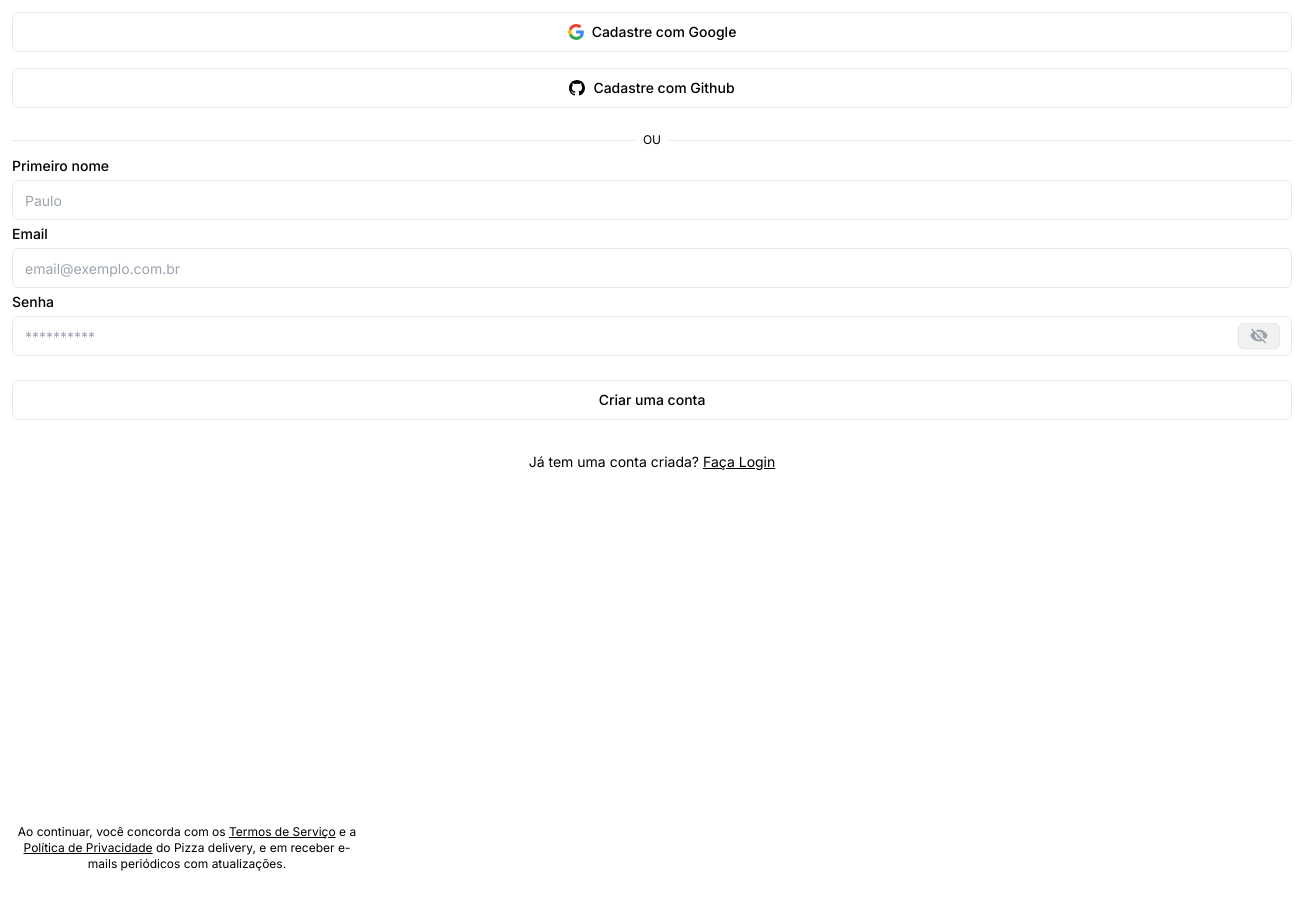
Scenario: <UserAuthFormRegister/> › should display error messages when fields are empty or wrongs
The image size is (1304, 912).
Click the button "Criar uma conta" at (652, 400), box [12,380,1292,420]
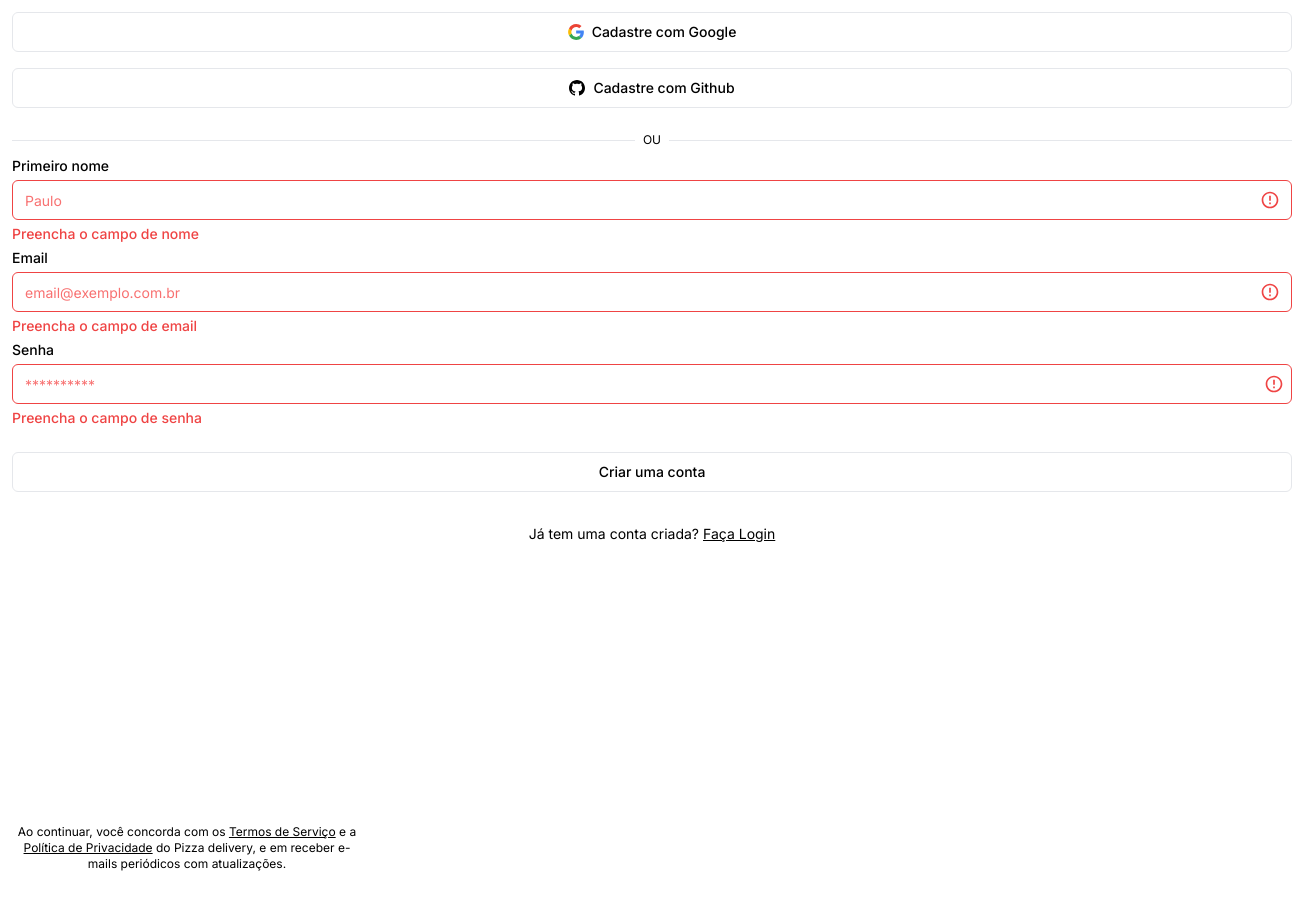
Check: the text "Preencha o campo de nome" is shown, box [12,225,199,242]
Check: the text "Preencha o campo de email" is shown, box [12,317,197,334]
Check: the text "Preencha o campo de senha" is shown, box [12,409,202,426]
Type "123" into the password field labelled "Senha" at (652, 384), box [12,364,1292,404]
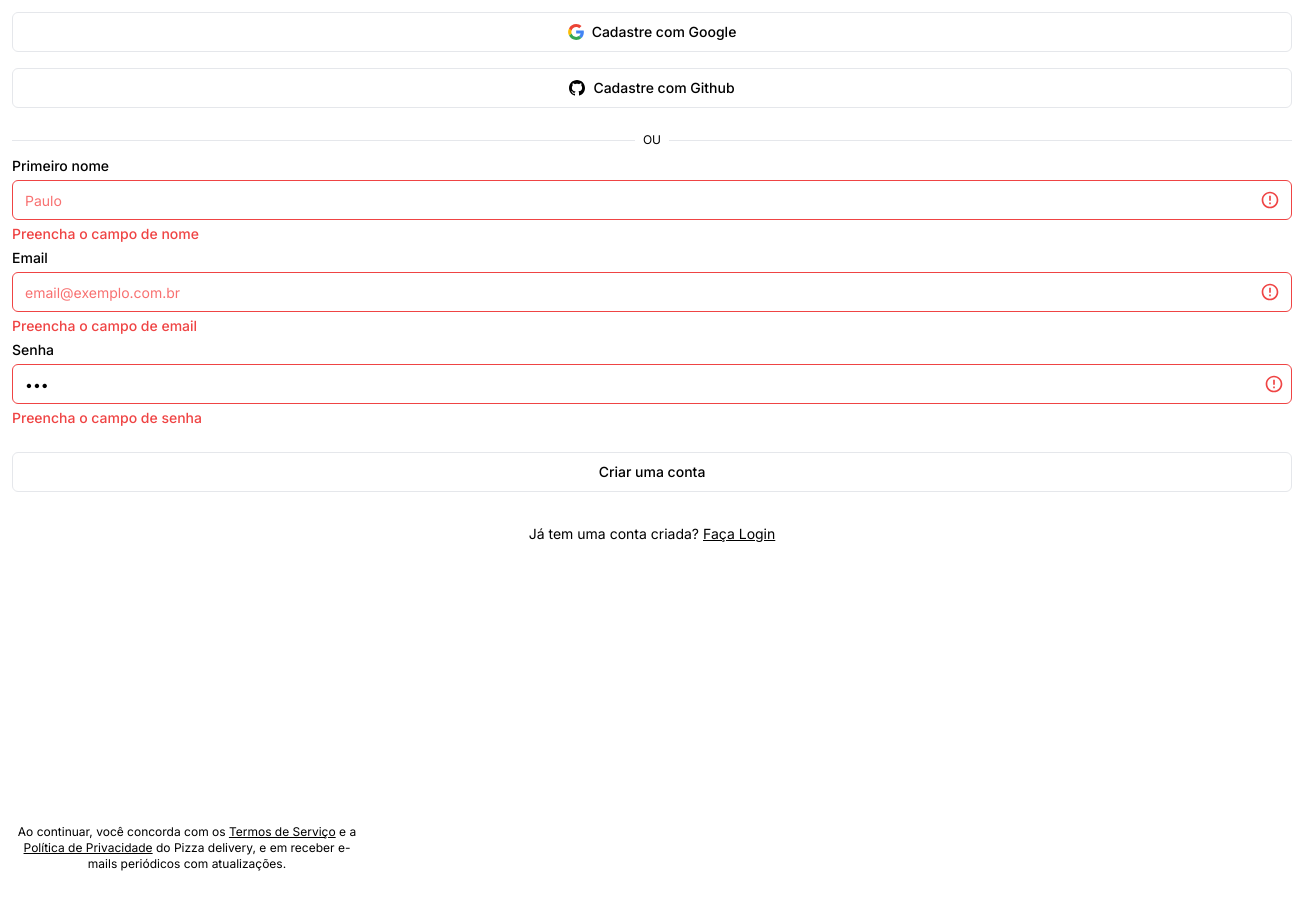
Click the button "Criar uma conta" at (652, 472), box [12,452,1292,492]
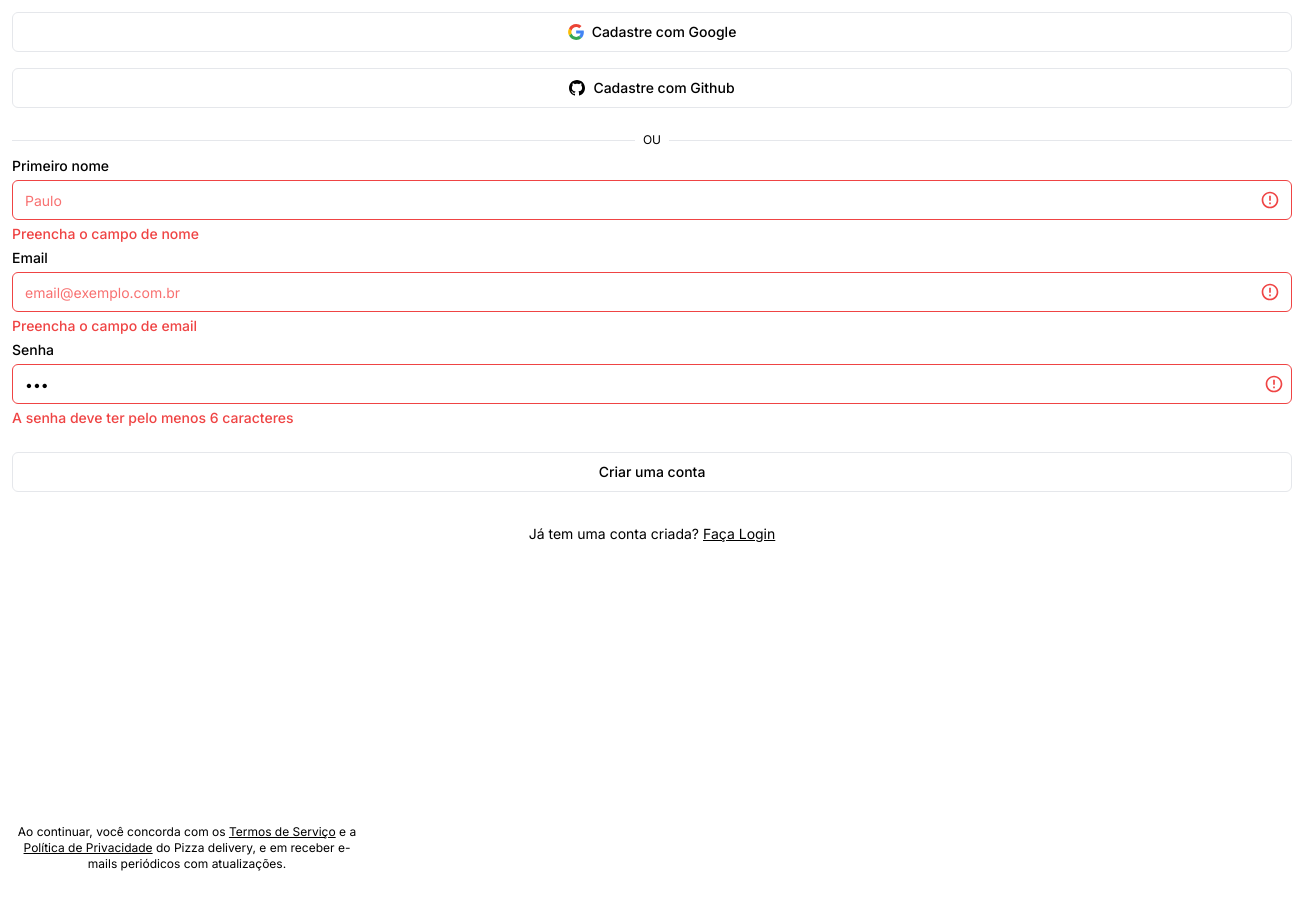
Check: the text "A senha deve ter pelo menos 6 caracteres" is shown, box [12,409,294,426]
